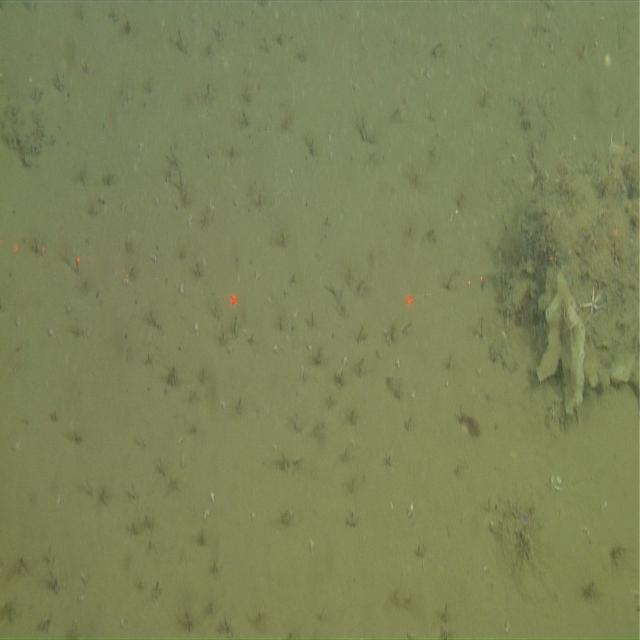Brittle Star: (580, 282, 608, 319)
